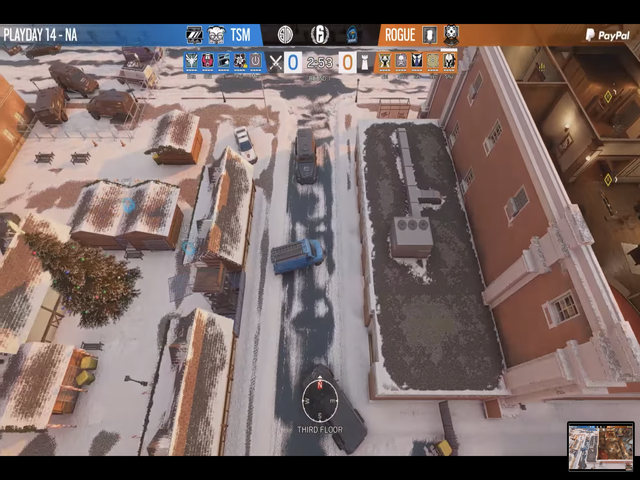0_blue: (284, 49, 308, 78)
